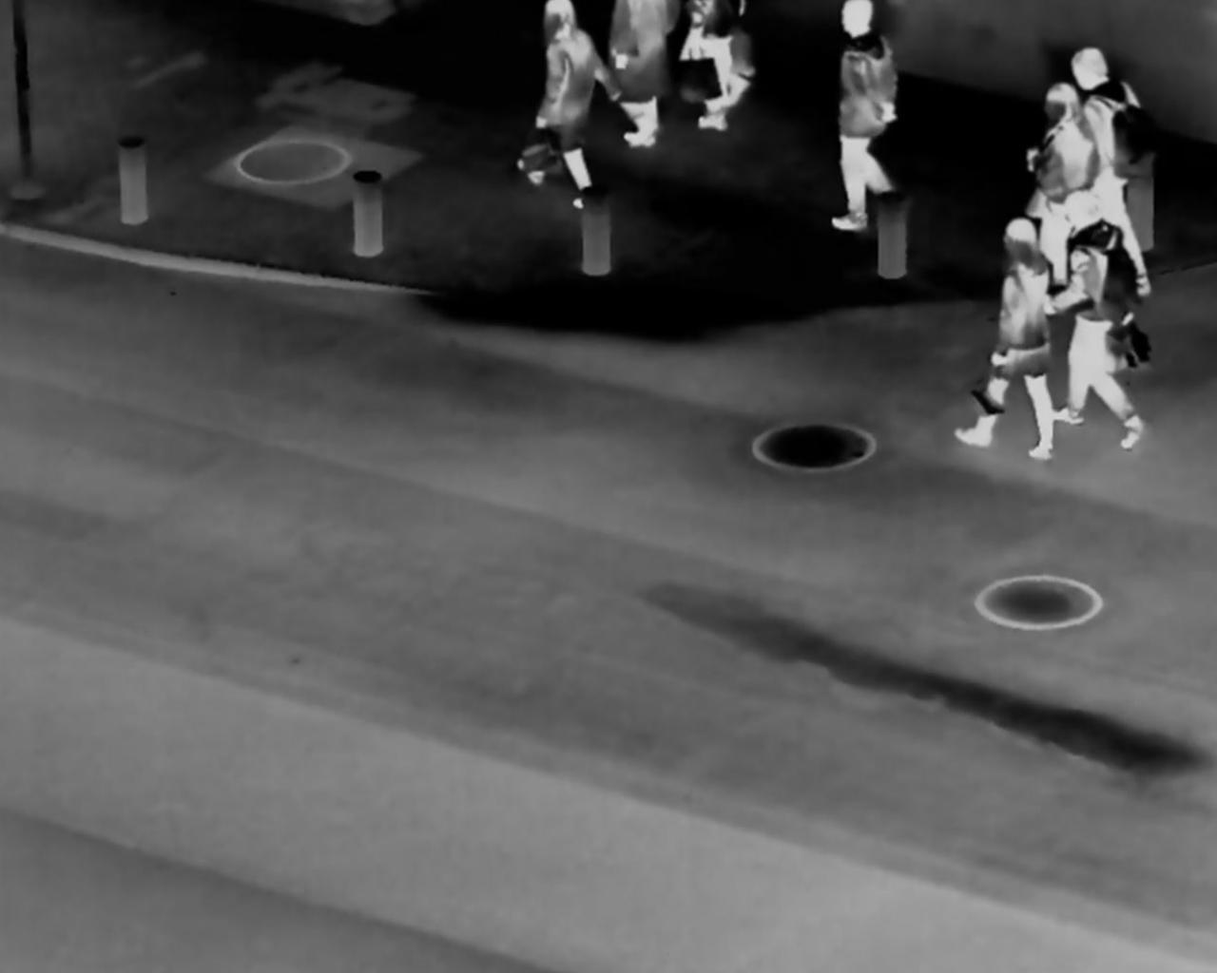person: (1059, 193, 1152, 453), (1068, 32, 1161, 264), (980, 205, 1056, 466), (533, 3, 610, 214), (1026, 80, 1098, 263)
